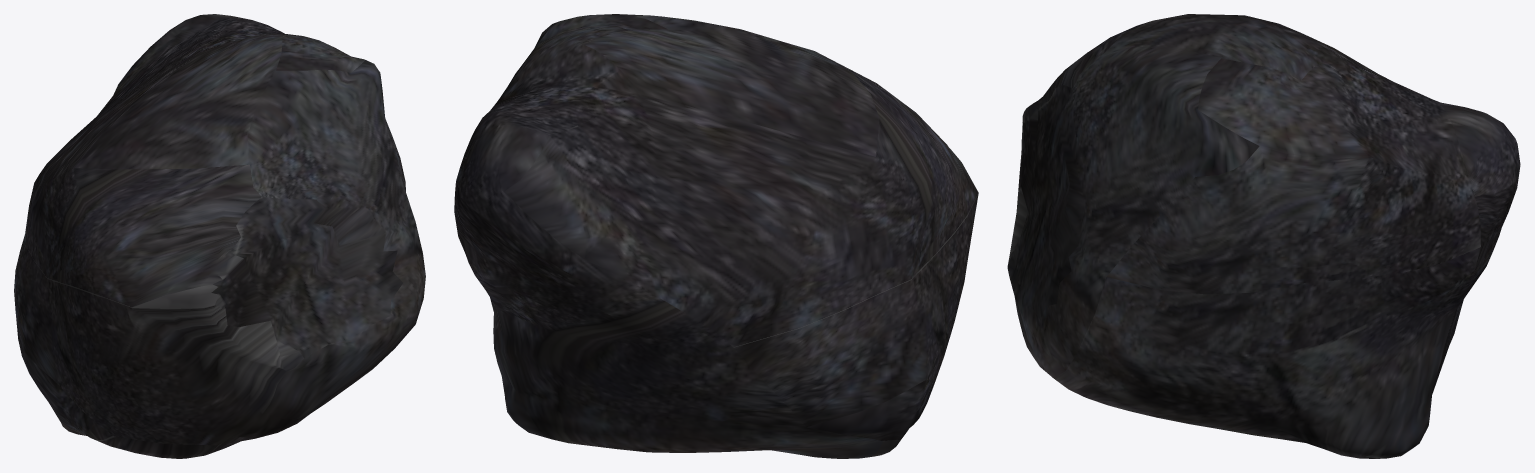
Rendered from Rock_1_Color.fbx.
The picture shows the model from 3 angles, left to right: view 1: azimuth 30°, elevation 25°; view 2: azimuth 150°, elevation 25°; view 3: azimuth 270°, elevation 25°; orthographic projection. The views are drawn at different scales.
Visible parts, largest first — view 1: pasted__group5; view 2: pasted__group5; view 3: pasted__group5.
Boxes of the visible parts, bbox=[...] form: pasted__group5: bbox=[14, 14, 425, 458]; pasted__group5: bbox=[454, 14, 978, 458]; pasted__group5: bbox=[1007, 14, 1520, 458].
Size of the model in its own units: 0.5494 by 0.5277 by 0.6039.
Materials: 1 (1 with a texture image).
